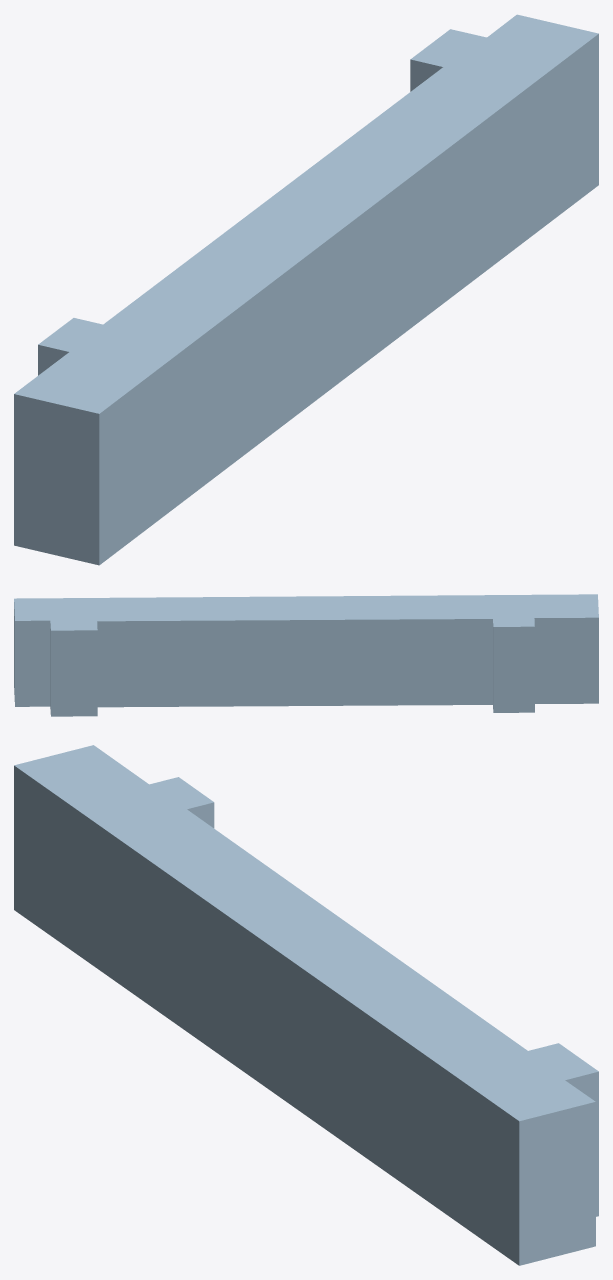
File: osm_way_225253711.glb
The picture shows the model from 3 angles, top to bottom: view 1: azimuth 30°, elevation 25°; view 2: azimuth 150°, elevation 25°; view 3: azimuth 270°, elevation 25°; orthographic projection. The views are drawn at different scales.
Visible parts, largest first — view 1: osm_way_225253711; view 2: osm_way_225253711; view 3: osm_way_225253711.
Part boxes in pixels (<box>): osm_way_225253711: <box>14,14,598,565</box>; osm_way_225253711: <box>14,594,598,716</box>; osm_way_225253711: <box>14,745,598,1265</box>.
Size of the model in its own units: 107 by 19.2 by 70.39.
